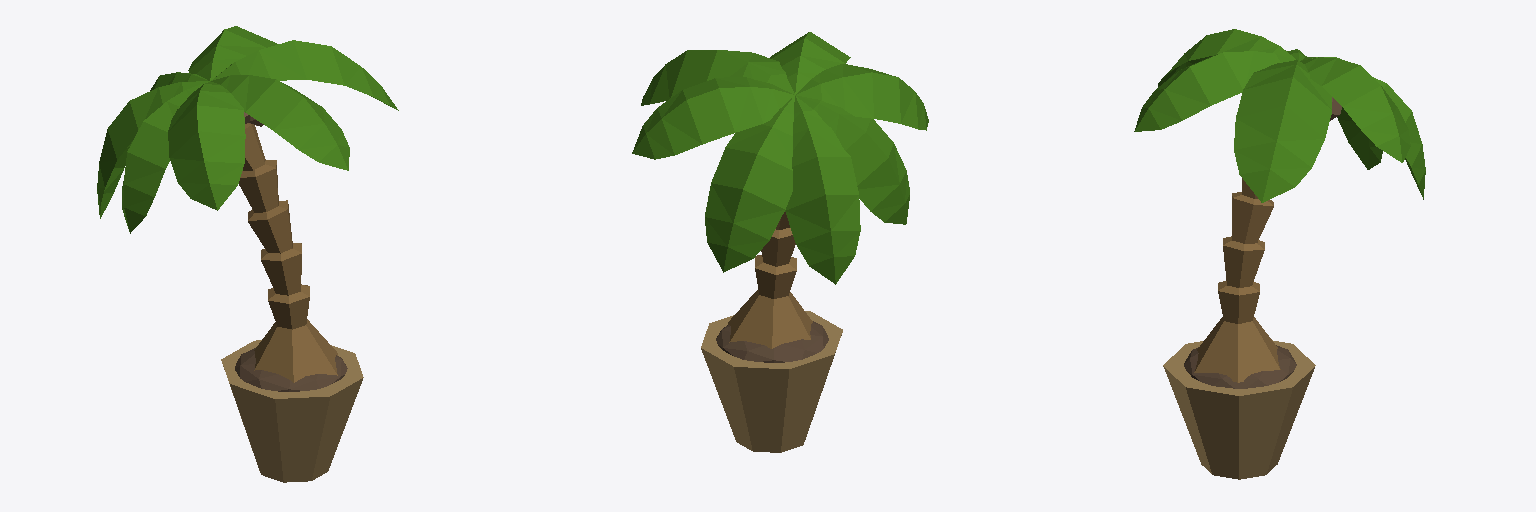
File: HousePlants1.obj
3 renders of one model, left to right at view 1: azimuth 30°, elevation 25°; view 2: azimuth 150°, elevation 25°; view 3: azimuth 270°, elevation 25°, orthographic.
Parts seen in each view (by area): view 1: mergedBlocks; view 2: mergedBlocks; view 3: mergedBlocks.
Boxes of the visible parts, x1=… form: mergedBlocks: x1=97, y1=26, x2=398, y2=482; mergedBlocks: x1=632, y1=32, x2=928, y2=452; mergedBlocks: x1=1134, y1=29, x2=1425, y2=479.
Size of the model in its own units: 1.52 by 2.17 by 1.43.